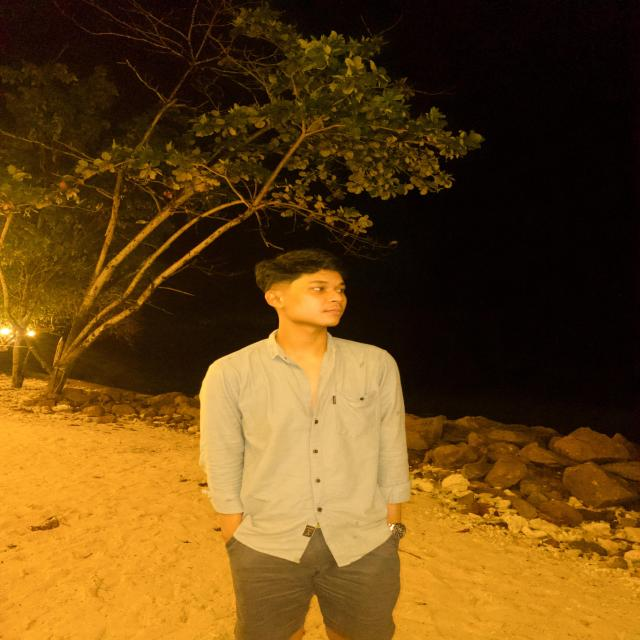nohelmet: (239, 252, 366, 334)
